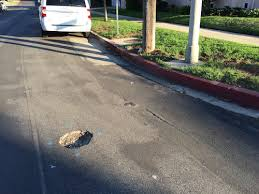pothole: (55, 124, 106, 159)
